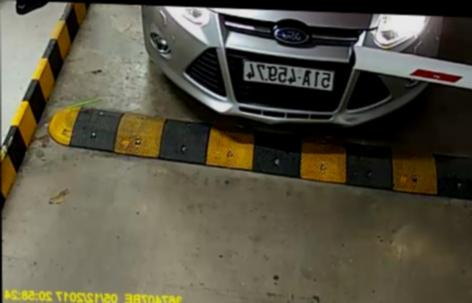License_Plate: (233, 60, 340, 93)
